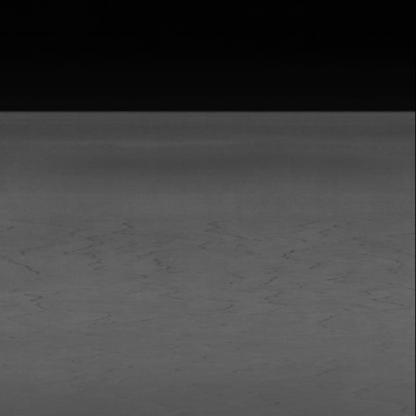silk_spot: (32, 206, 380, 321)
